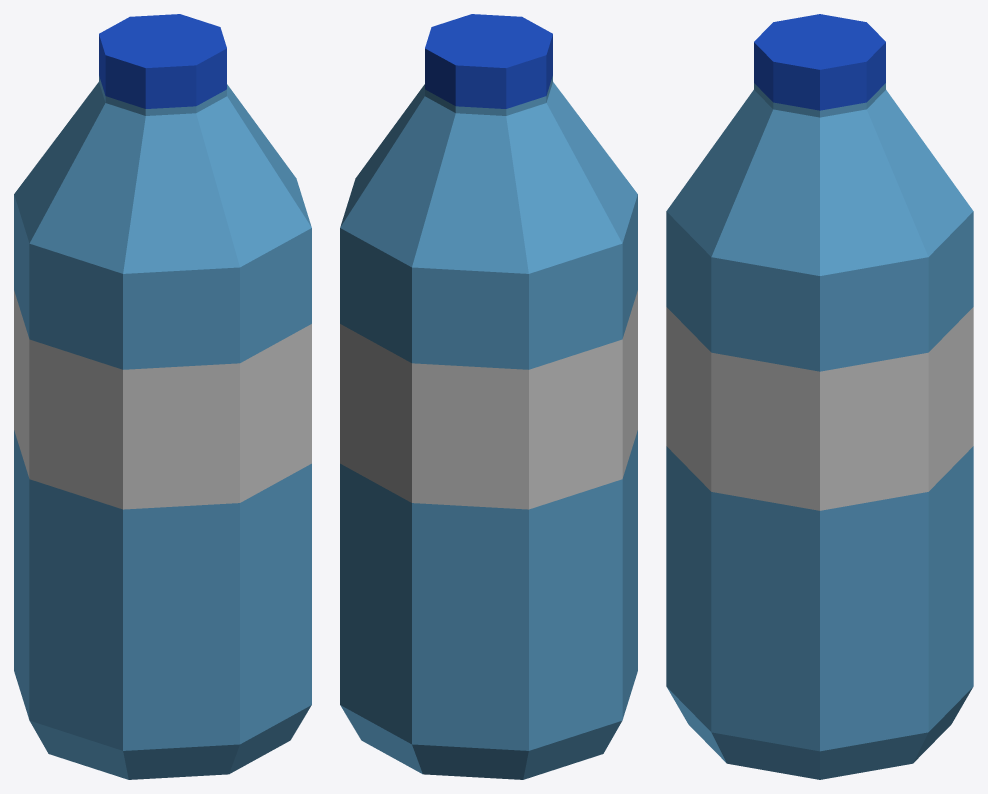
Rendered from WaterBottle.fbx.
The picture shows the model from 3 angles, left to right: view 1: azimuth 30°, elevation 25°; view 2: azimuth 150°, elevation 25°; view 3: azimuth 270°, elevation 25°; orthographic projection.
Visible parts, largest first — view 1: Cylinder_1; view 2: Cylinder_1; view 3: Cylinder_1.
Boxes of the visible parts, x1,y1,x2,y2 form: Cylinder_1: (14, 14, 311, 779); Cylinder_1: (340, 14, 637, 779); Cylinder_1: (666, 14, 973, 779).
Size of the model in its own units: 100 by 245 by 100.
